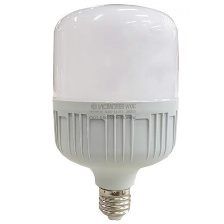light_bulb: (49, 0, 182, 224)
